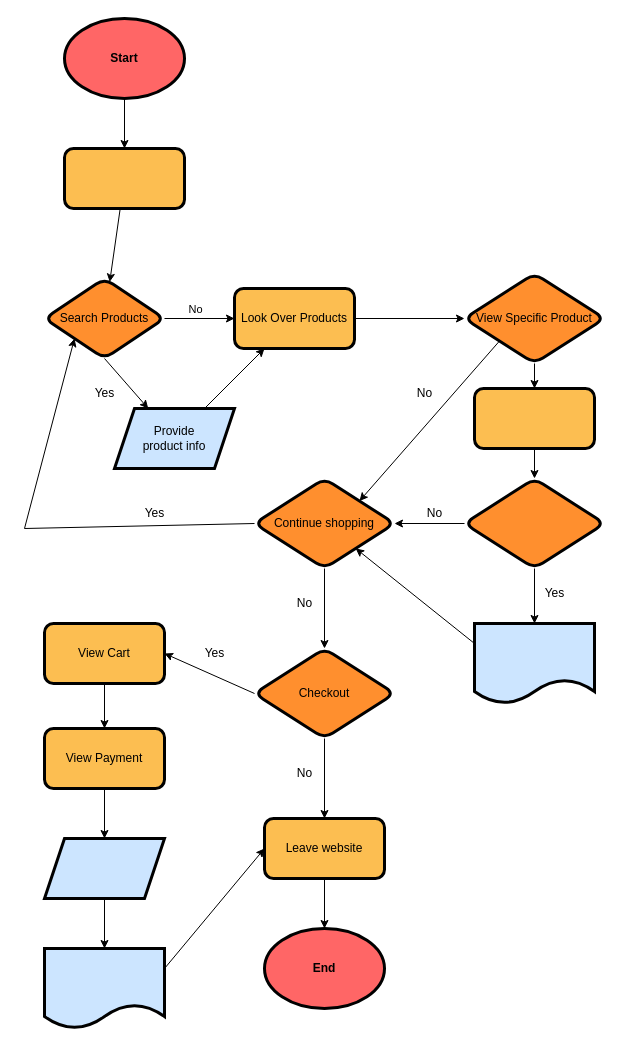
Image size: 623x1047. Some labels were removed from this diagram. The shapes that lost their labels are listed below. From the top down, each one's centre as x and y in pixels, then its label:
the point at 124,178: Enter website
the point at 534,418: Specific product page
the point at 534,523: Add Product to Cart
the point at 534,663: Added to cart confirmation
the point at 104,868: Provide payment info
the point at 104,988: Order Confirmation
